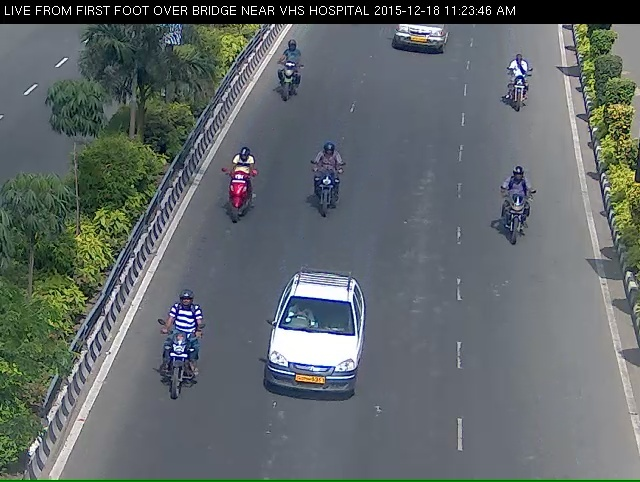Car: (253, 294, 362, 440), (388, 23, 450, 62)
Person: (140, 317, 195, 435), (501, 180, 540, 262), (303, 154, 341, 236), (217, 162, 252, 240), (499, 51, 537, 119), (268, 44, 294, 107)
